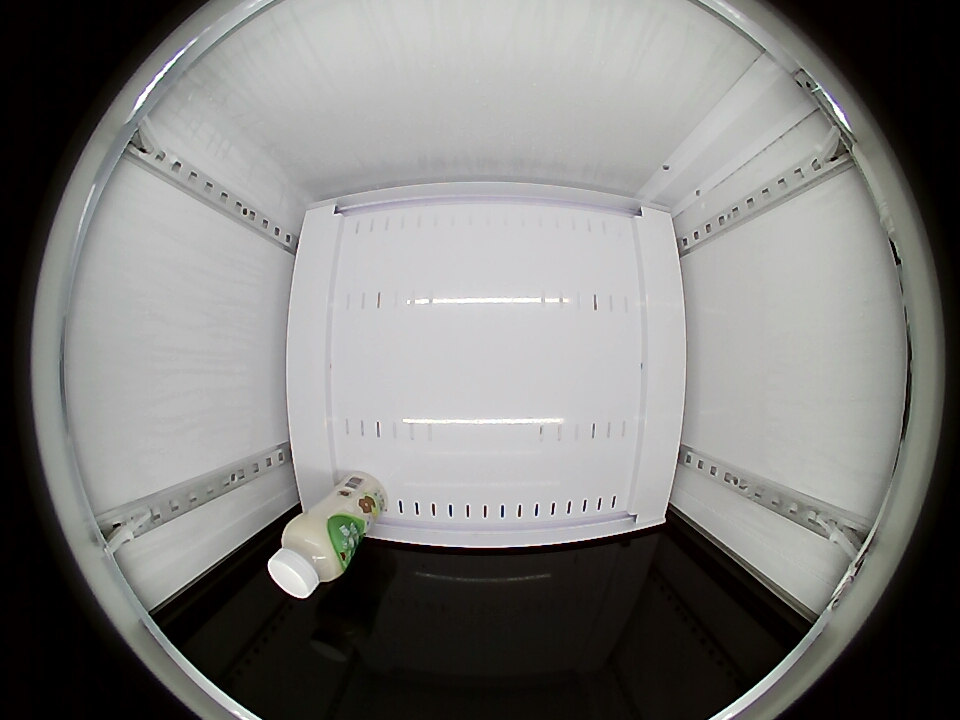yousuanru: (268, 515, 351, 599)
